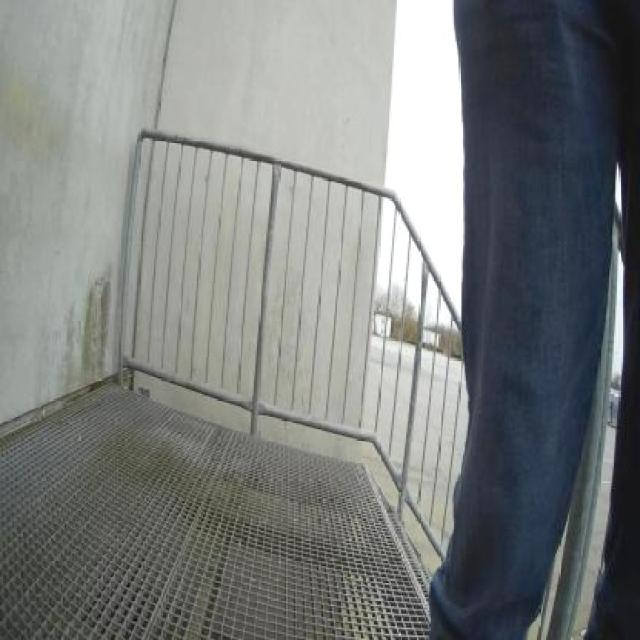pallets: (0, 385, 426, 637)
